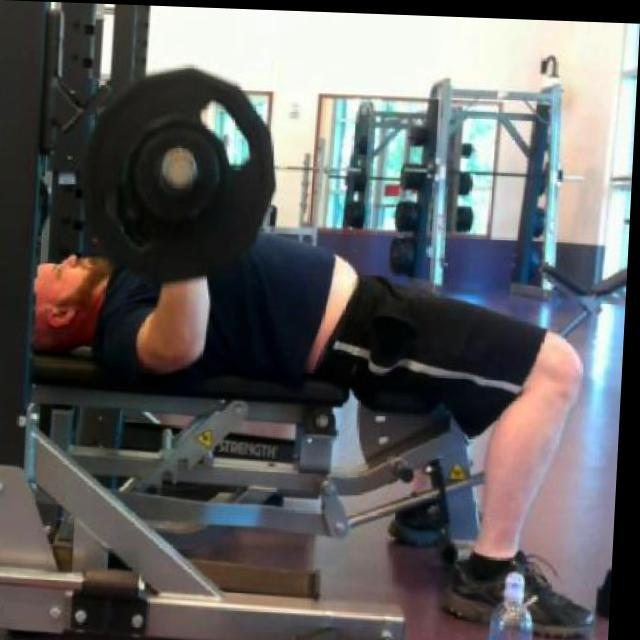barbell: (74, 58, 288, 298)
